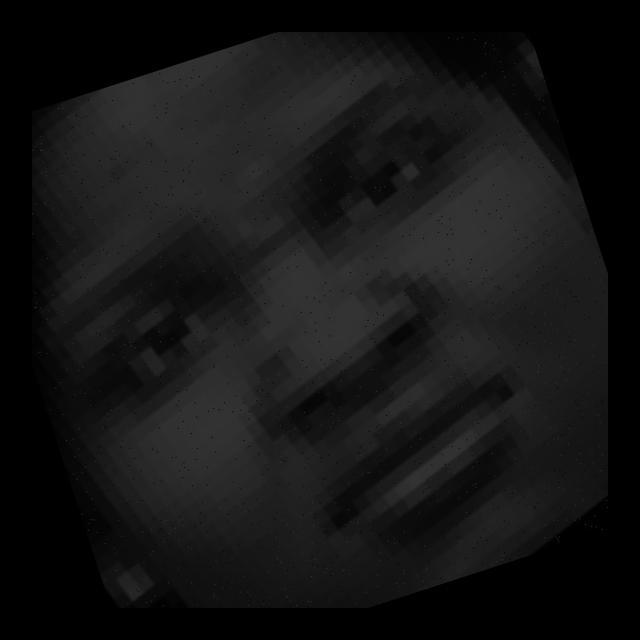Disgust: (58, 101, 600, 565)
